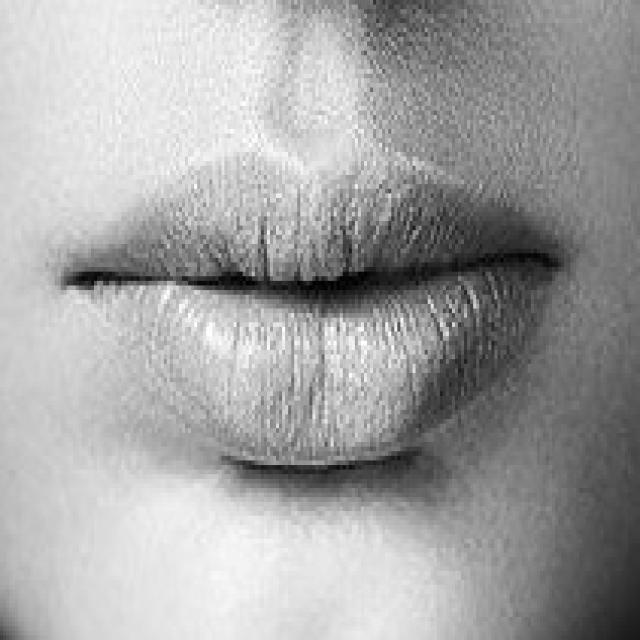closed-mouth: (55, 138, 568, 474)
